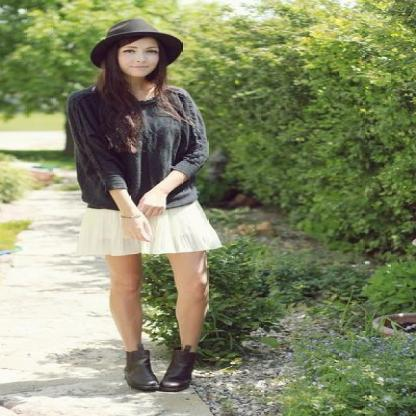hat: (90, 18, 182, 66)
shirt: (64, 85, 206, 210)
shoe: (124, 341, 200, 393)
skirt: (69, 201, 231, 256)
